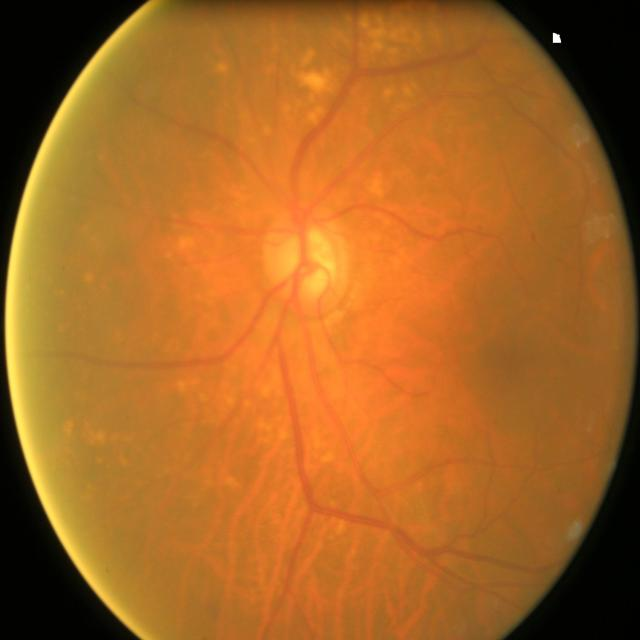OC: (278, 223, 338, 300)
OD: (261, 207, 351, 316)
